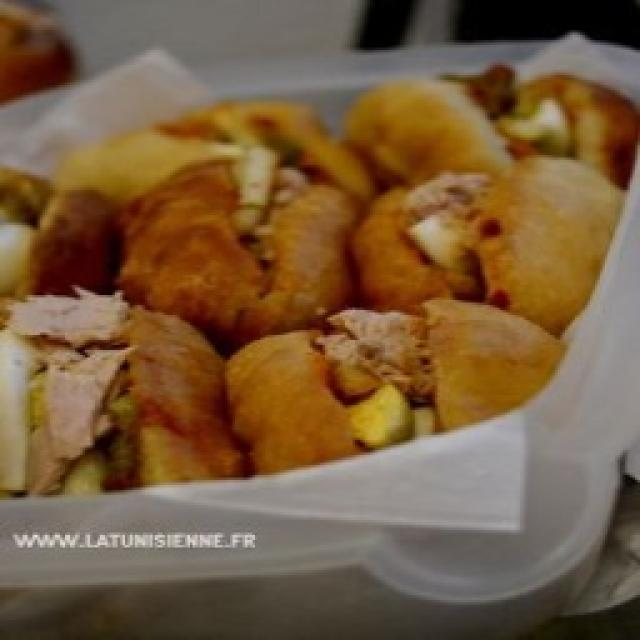Frecasse: (0, 5, 640, 610)
